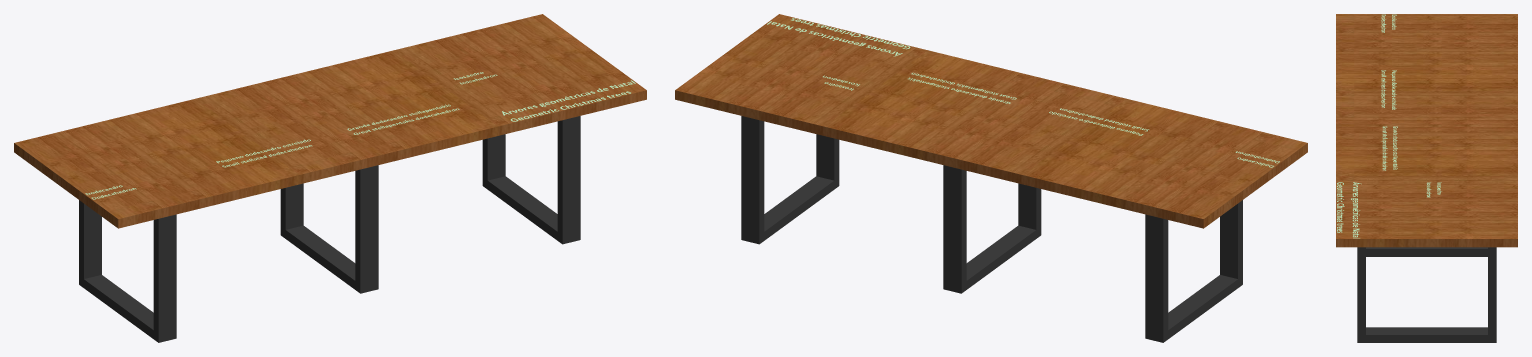
The model's file is Trees2.glb.
3 views of the same model, side by side, from view 1: azimuth 30°, elevation 25°; view 2: azimuth 150°, elevation 25°; view 3: azimuth 270°, elevation 25° (orthographic). The views are drawn at different scales.
Parts seen in each view (by area): view 1: object 1, Composant#1 (×3), Árvores geométri; view 2: object 1, Composant#1 (×3), Árvores geométri, Grande dodecaedr#2; view 3: object 1, Composant#1 (×2), Árvores geométri, Grande dodecaedr#2, Pequeno dodecaed#1.
Boxes of the visible parts, x1,y1,x2,y2 form: object 1: (14,14,646,228); Composant#1 (×3): (79,116,580,342); Árvores geométri: (502,80,635,121); object 1: (675,14,1307,228); Composant#1 (×3): (741,116,1242,342); Árvores geométri: (767,18,910,56); Grande dodecaedr#2: (908,72,1016,103); object 1: (1336,14,1517,247); Composant#1 (×2): (1357,247,1496,342); Árvores geométri: (1337,182,1361,238); Grande dodecaedr#2: (1381,126,1397,170); Pequeno dodecaed#1: (1381,70,1396,109).
Bounding box in the file's own units: 2.93 × 0.7711 × 1.
3 materials, 1 textured.
